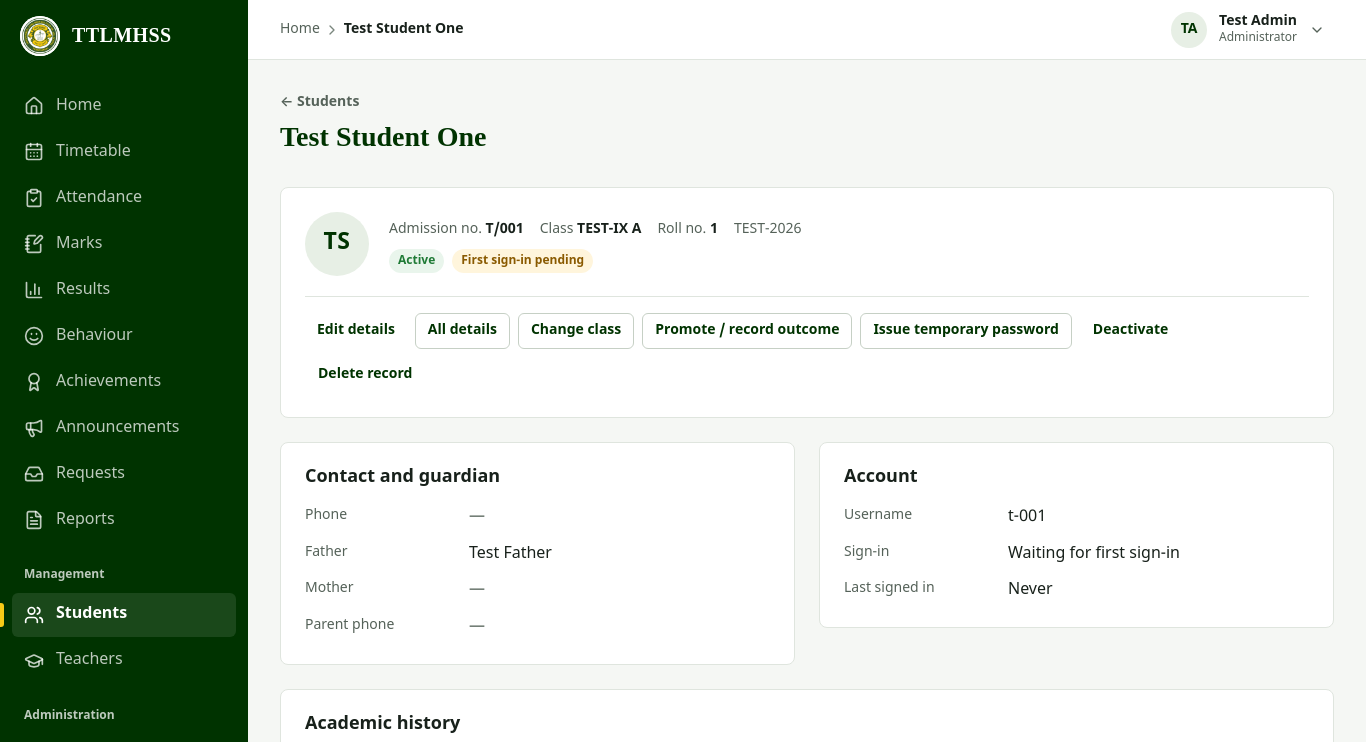
Scenario: students › profile: a temporary password is shown once and disappears when done
The image size is (1366, 742).
Expected: the text "TEST-IX A" is shown, [577,221,641,238]
Expected: the text "First sign-in pending" is shown, [452,249,593,273]
Step 1. Click the button "Issue temporary password" → (966, 331), box [860,313,1072,349]
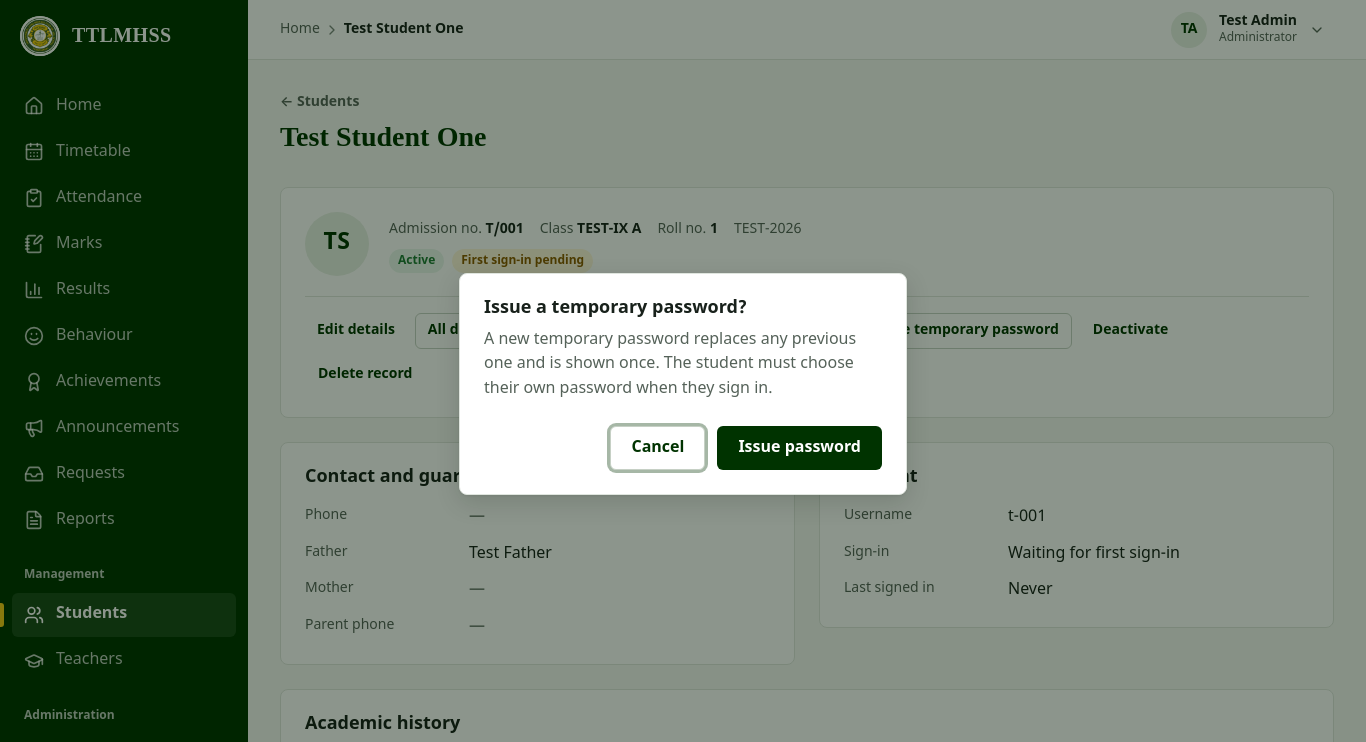
Step 2. Click the button "Issue password" → (800, 448), box [717,426,882,470]
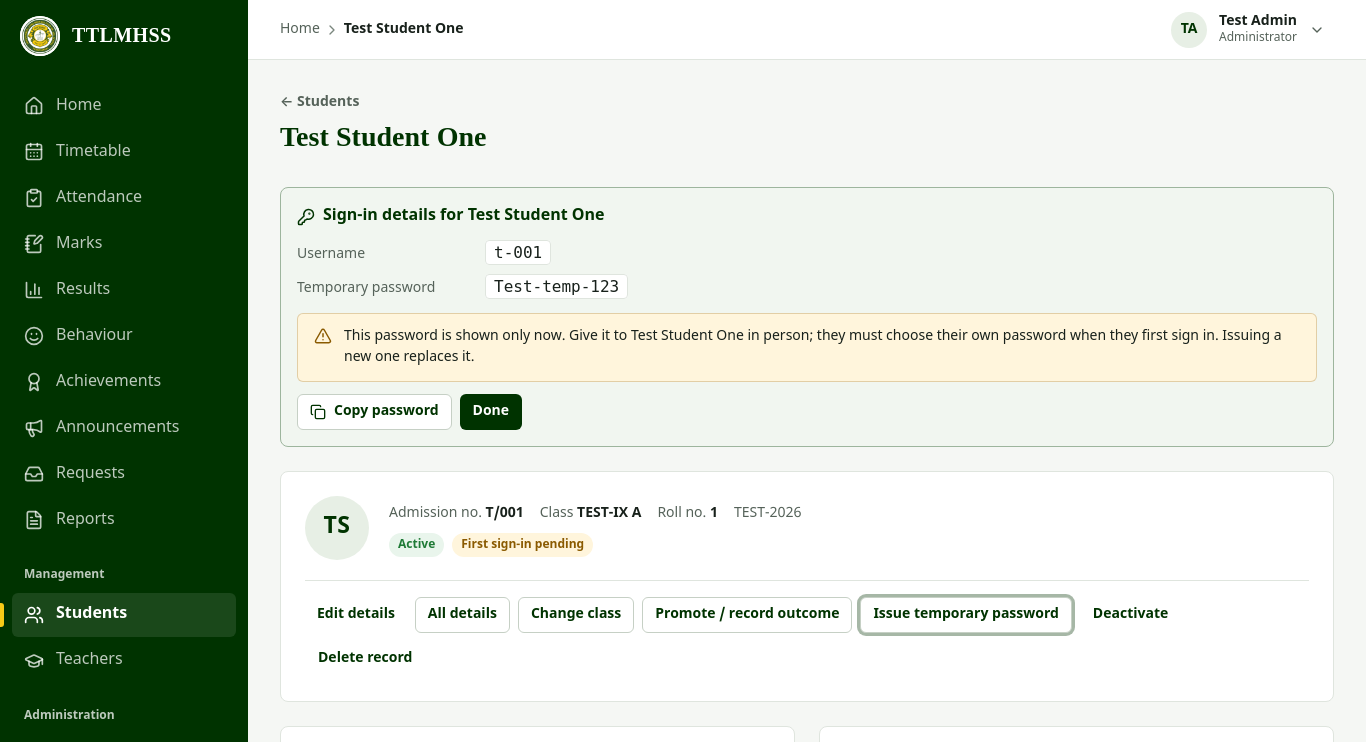
Result: the text with test id "temporary-password" reads "Test-temp-123" at [494,277,619,296]
Step 3. Click the button "Done" → (491, 412), box [460,394,522,430]
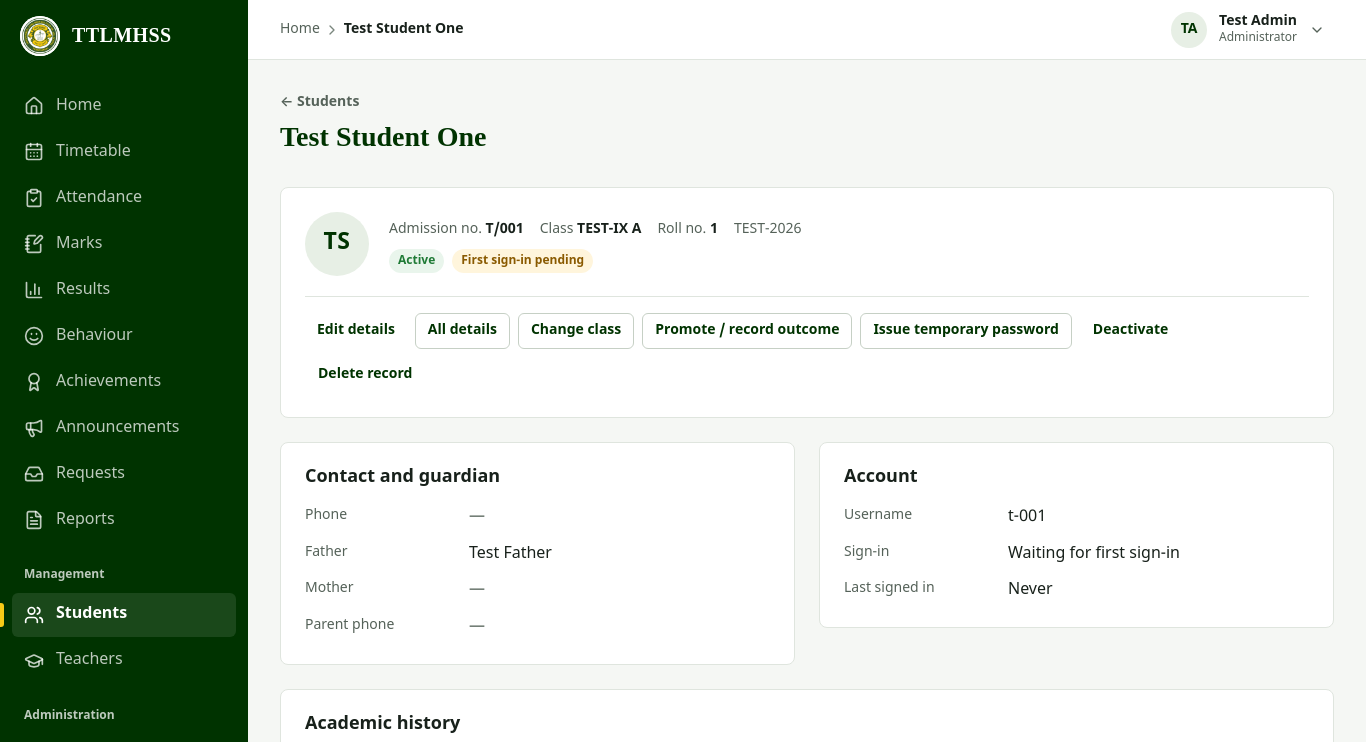
Result: the text "Test-temp-123" is gone
